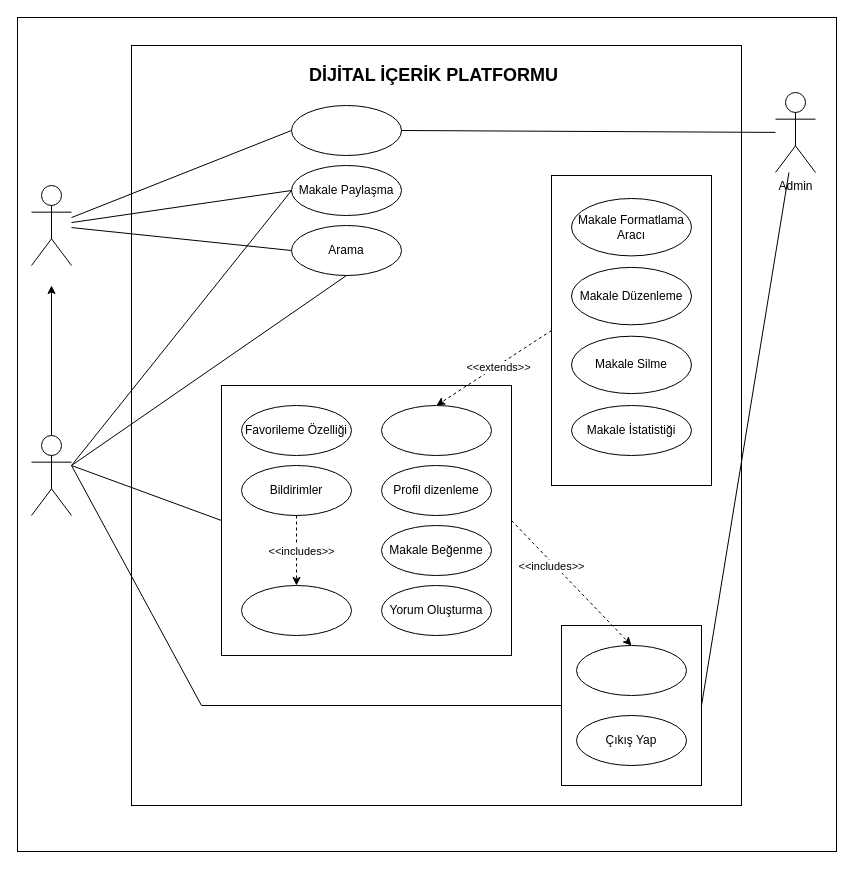
Some shapes in this 854 by 869 pixel diagram are drawn without their labels. Each missing label, with the box of its shape:
Giriş Yap: (576, 644, 686, 696)
Kayıt Ol: (290, 104, 402, 156)
Kayıtlı Üye: (30, 434, 72, 516)
Kullanıcı: (30, 184, 72, 266)
Makale Oluşturma: (380, 404, 492, 456)
Takip: (240, 584, 352, 636)
